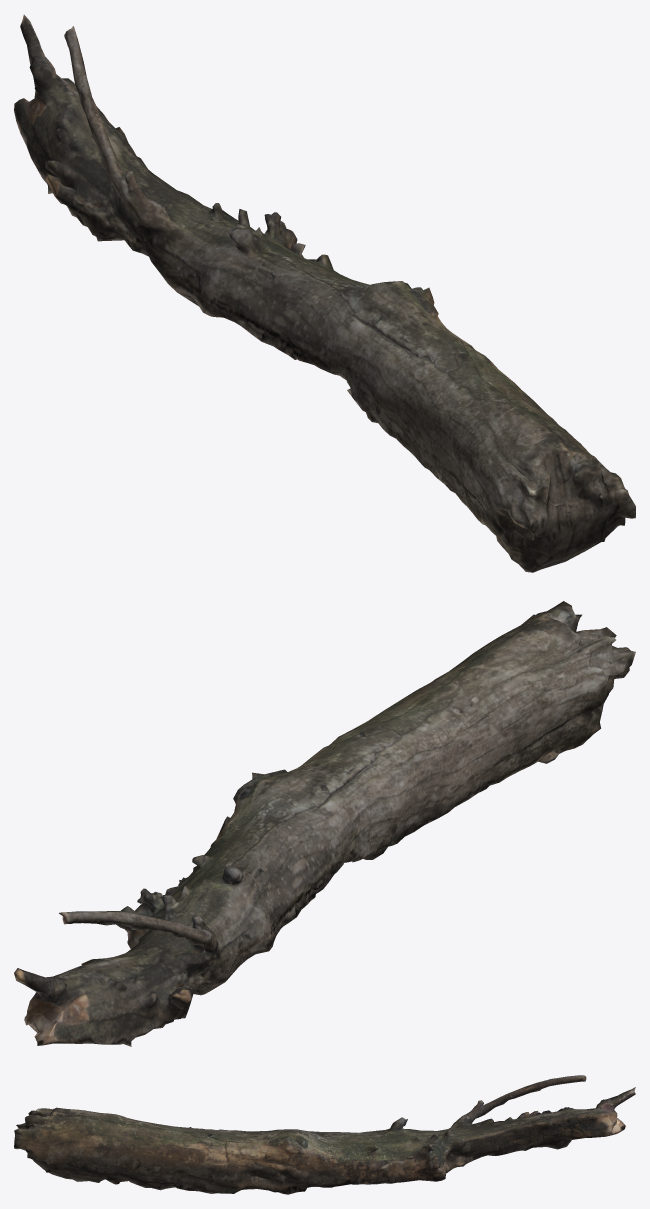
File: branch_c.glb
3 views of the same model, one above another, from view 1: azimuth 30°, elevation 25°; view 2: azimuth 150°, elevation 25°; view 3: azimuth 270°, elevation 25° (orthographic). The views are drawn at different scales.
Visible parts, largest first — view 1: branch_c; view 2: branch_c; view 3: branch_c.
Boxes of the visible parts, <box> form: branch_c: <box>14,14,635,572</box>; branch_c: <box>14,601,635,1046</box>; branch_c: <box>14,1075,635,1194</box>.
Bounding box in the file's own units: 0.168 × 0.1843 × 1.
Materials: 1 (1 with a texture image).
